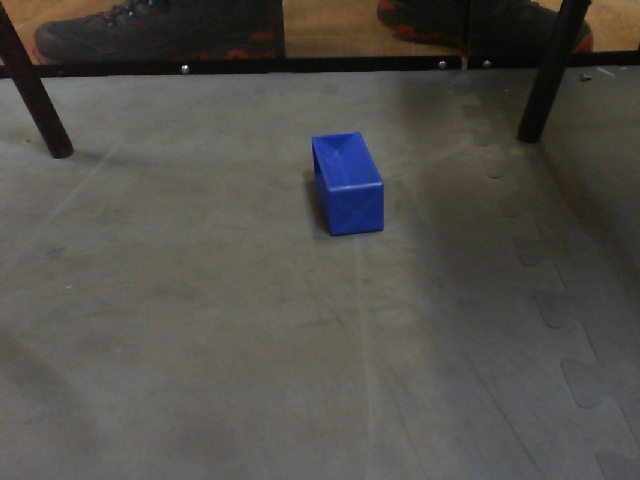BlueSample: (304, 128, 389, 238)
